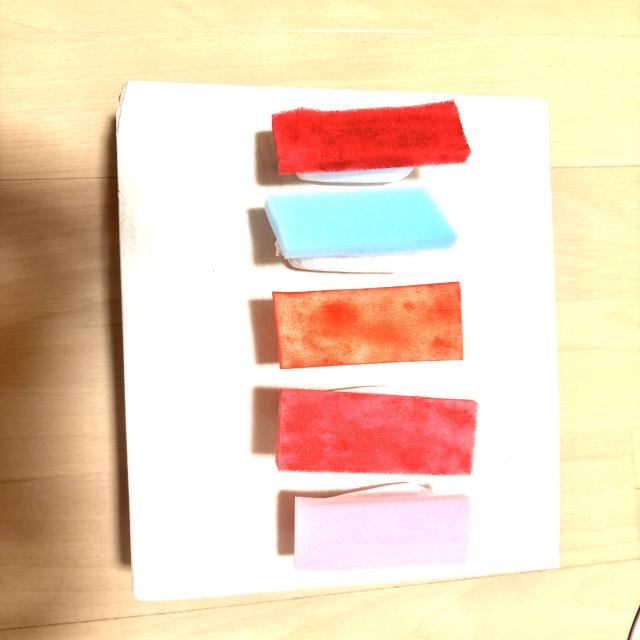NG: (266, 188, 457, 272)
maguro: (276, 388, 478, 475), (272, 100, 470, 183)
salmon: (273, 282, 463, 369)
tai: (294, 483, 470, 570)
